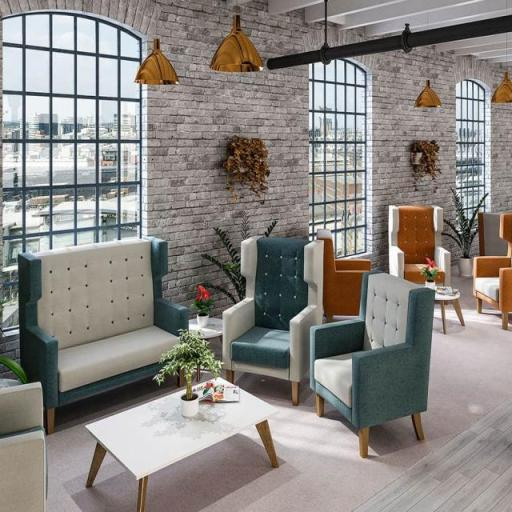sofa: (30, 216, 212, 410), (240, 224, 329, 434)
